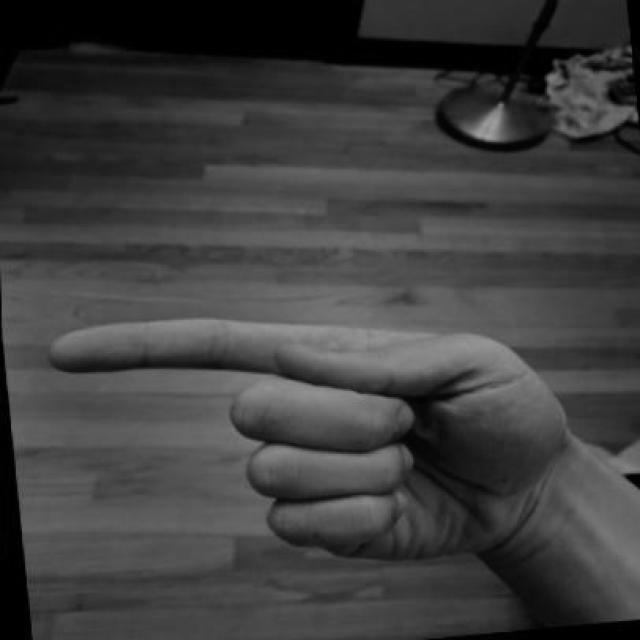G: (34, 277, 589, 599)
